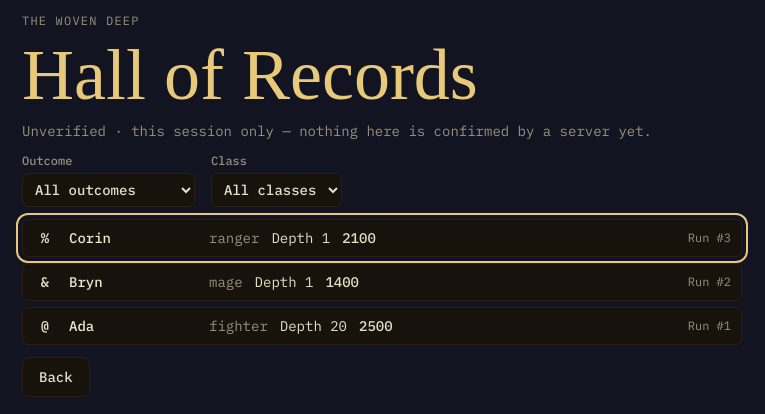
Test: HallScreen › narrows the list with the outcome filter
Select "Died" in the dropdown labelled "Outcome" at (108, 190), box [22,173,195,207]
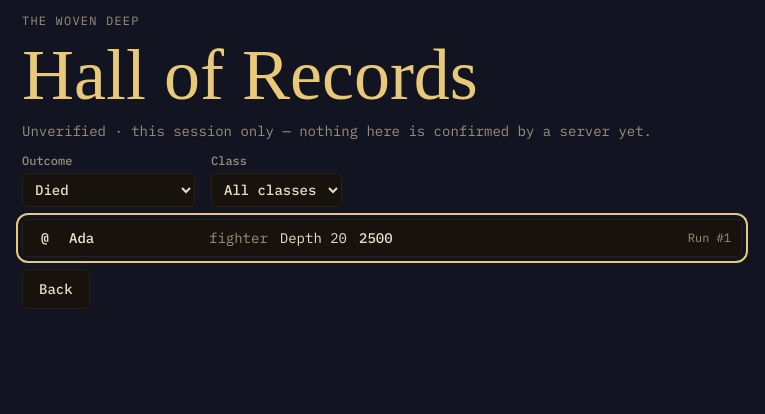
Check: the text "Ada" is shown, box [69,229,94,247]
Check: the number of options is 1, box [22,219,742,257]
